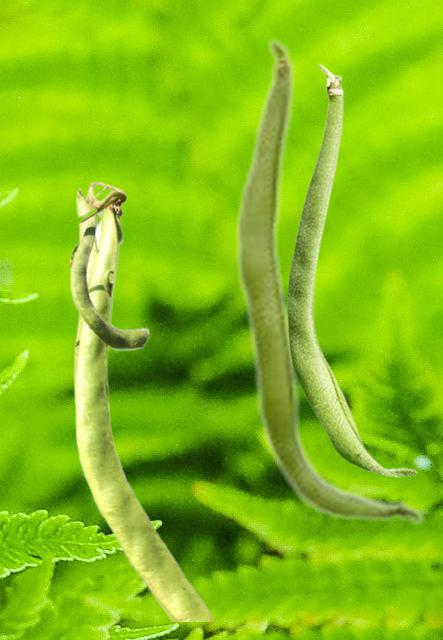french_bean: (232, 36, 427, 526), (68, 181, 213, 620), (287, 63, 417, 477)
